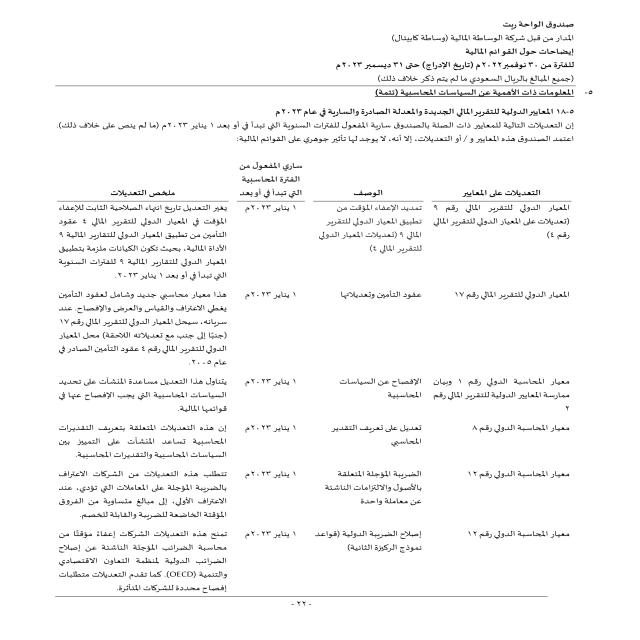notes: (456, 46, 576, 58)
table: (38, 156, 576, 604)
